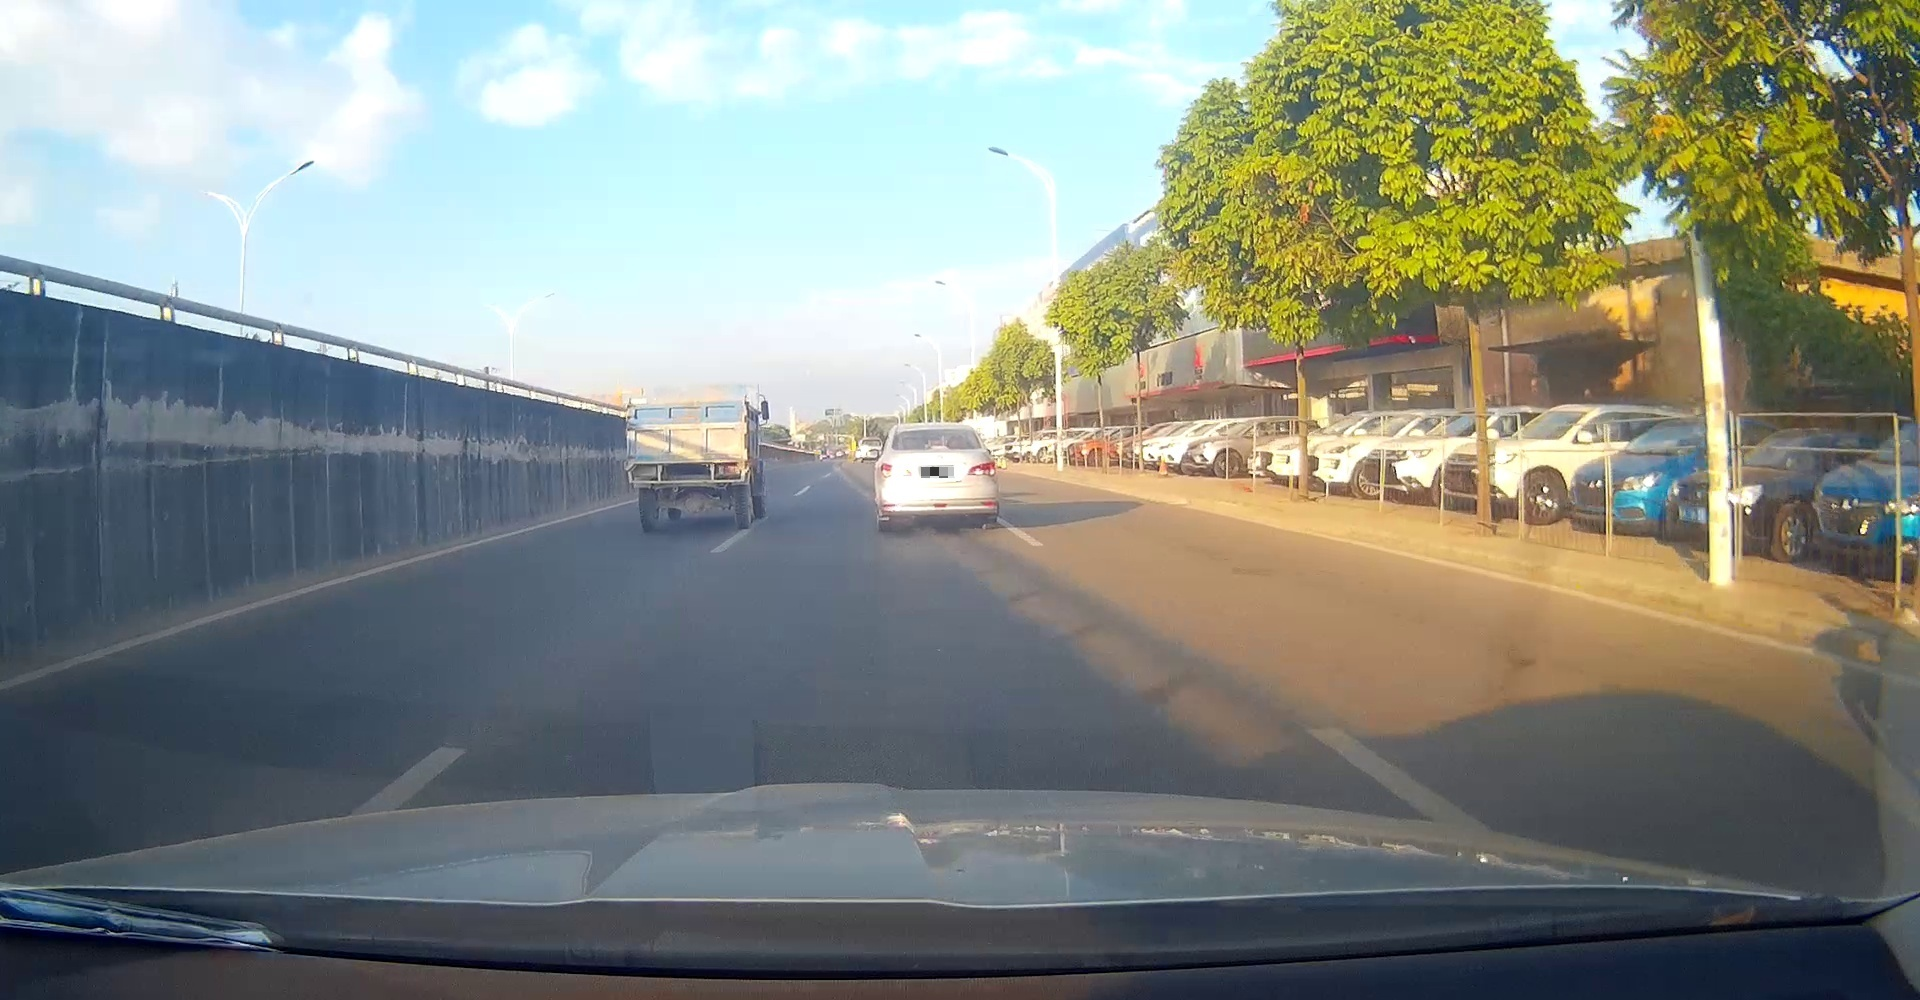L_light: (881, 463, 912, 478), (632, 464, 657, 478)
R_light: (968, 461, 996, 476), (716, 463, 742, 477)
T_light: (677, 426, 695, 435), (930, 445, 949, 452)
day-no: (625, 420, 748, 532), (880, 423, 998, 533)
plate_1: (921, 467, 954, 478)
